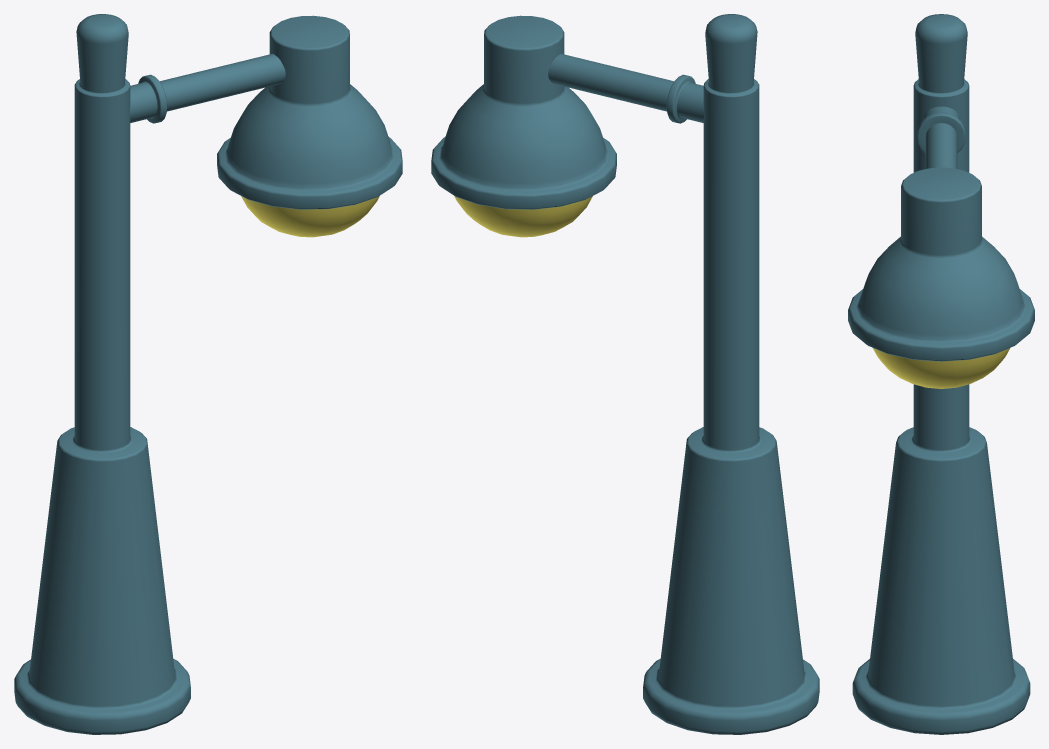
File: Town_2_Street_Lamp_1.glb
The picture shows the model from 3 angles, left to right: view 1: azimuth 30°, elevation 25°; view 2: azimuth 150°, elevation 25°; view 3: azimuth 270°, elevation 25°; orthographic projection.
Parts seen in each view (by area): view 1: Town_2_Street_Lamp_1; view 2: Town_2_Street_Lamp_1; view 3: Town_2_Street_Lamp_1.
Boxes of the visible parts, x1,y1,x2,y2 form: Town_2_Street_Lamp_1: [14, 14, 402, 734]; Town_2_Street_Lamp_1: [431, 14, 819, 734]; Town_2_Street_Lamp_1: [848, 14, 1034, 734].
Size of the model in its own units: 2.02 by 3.6 by 0.8967.
Materials: 1 (1 with a texture image).
